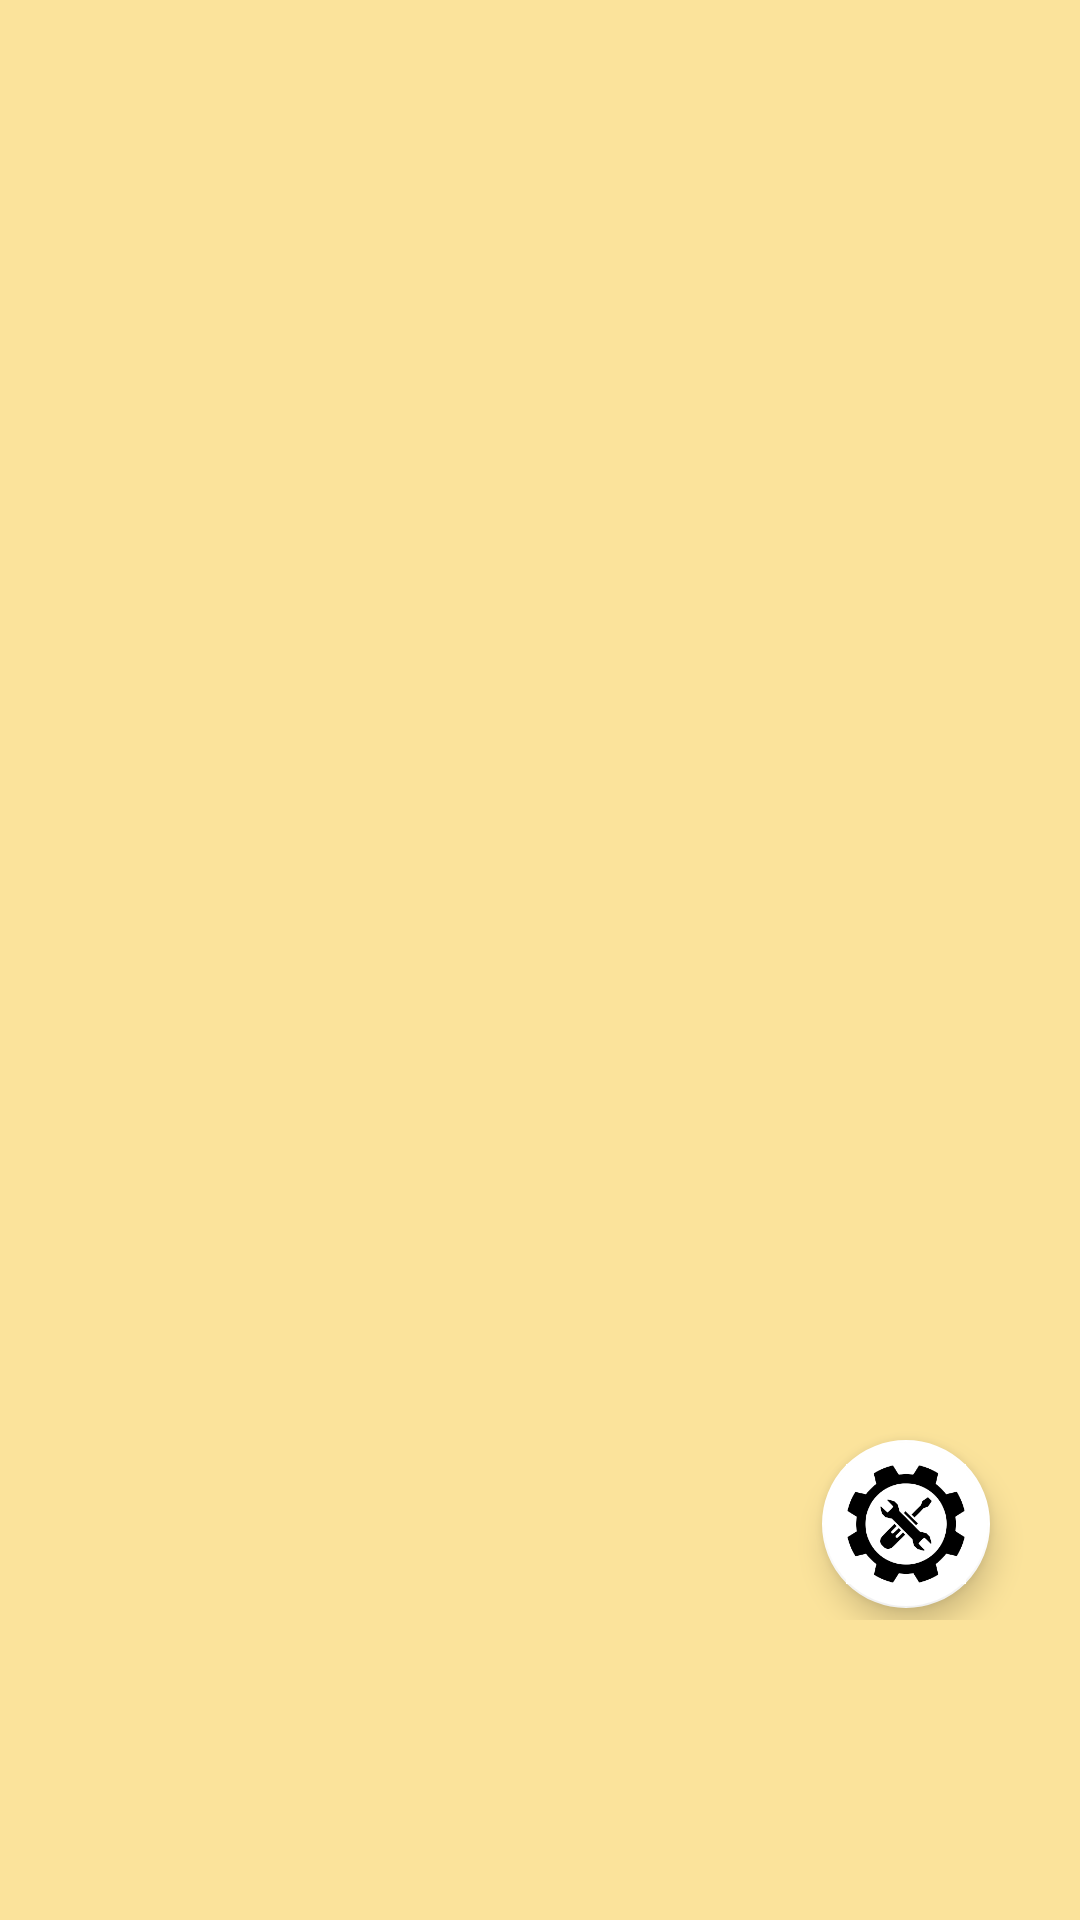

Screen size 1080 × 1920. Icon name, then its box in pixels as rect(x1, y1, x2, y2):
setting: rect(822, 1440, 990, 1608)
